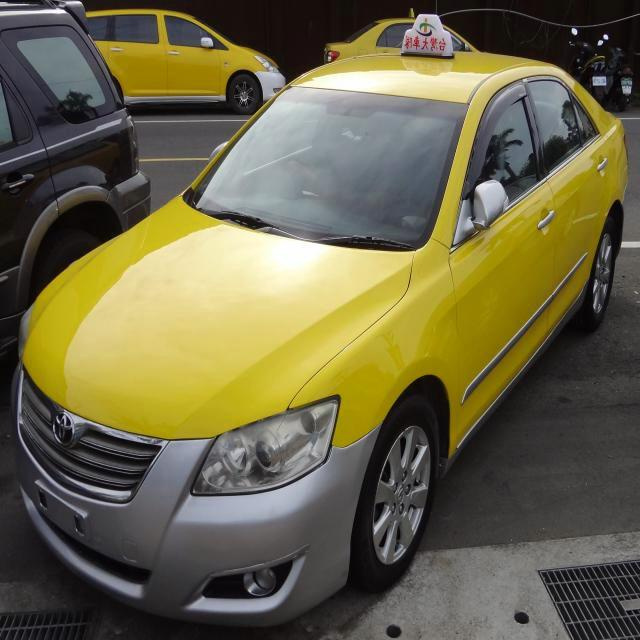taxi: (9, 13, 626, 638), (74, 5, 294, 112)
